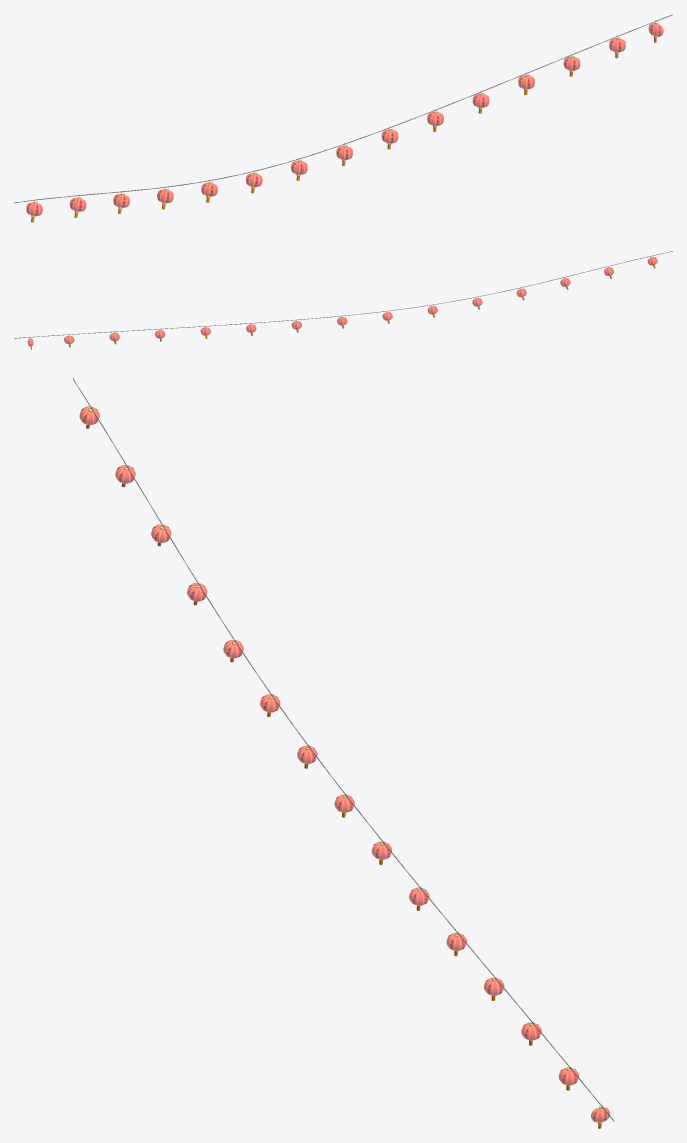
The model's file is SM_lamp_spline_Splines_39.fbx.
3 views of the same model, one above another, from view 1: azimuth 30°, elevation 25°; view 2: azimuth 150°, elevation 25°; view 3: azimuth 270°, elevation 25° (orthographic). The views are drawn at different scales.
Visible parts, largest first — view 1: SM_lamp_spline_Splines_39; view 2: SM_lamp_spline_Splines_39; view 3: SM_lamp_spline_Splines_39.
Boxes of the visible parts, left/top/right/bottom form: SM_lamp_spline_Splines_39: left=14, top=14, right=672, bottom=222; SM_lamp_spline_Splines_39: left=14, top=251, right=672, bottom=349; SM_lamp_spline_Splines_39: left=72, top=378, right=614, bottom=1128.
Size of the model in its own units: 3285 by 1472 by 758.
